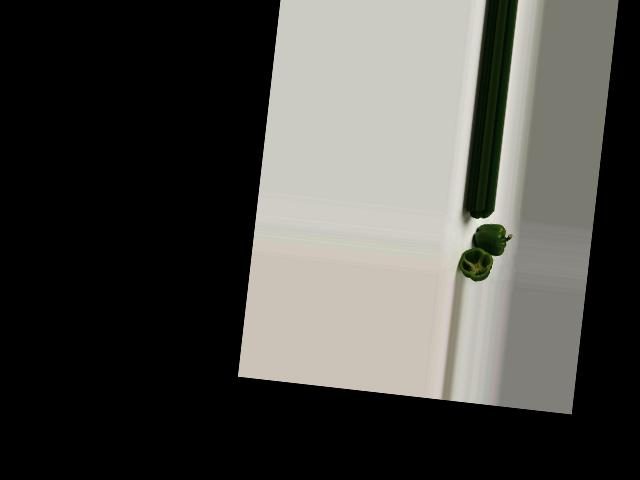bell_pepper: (455, 243, 498, 284)
